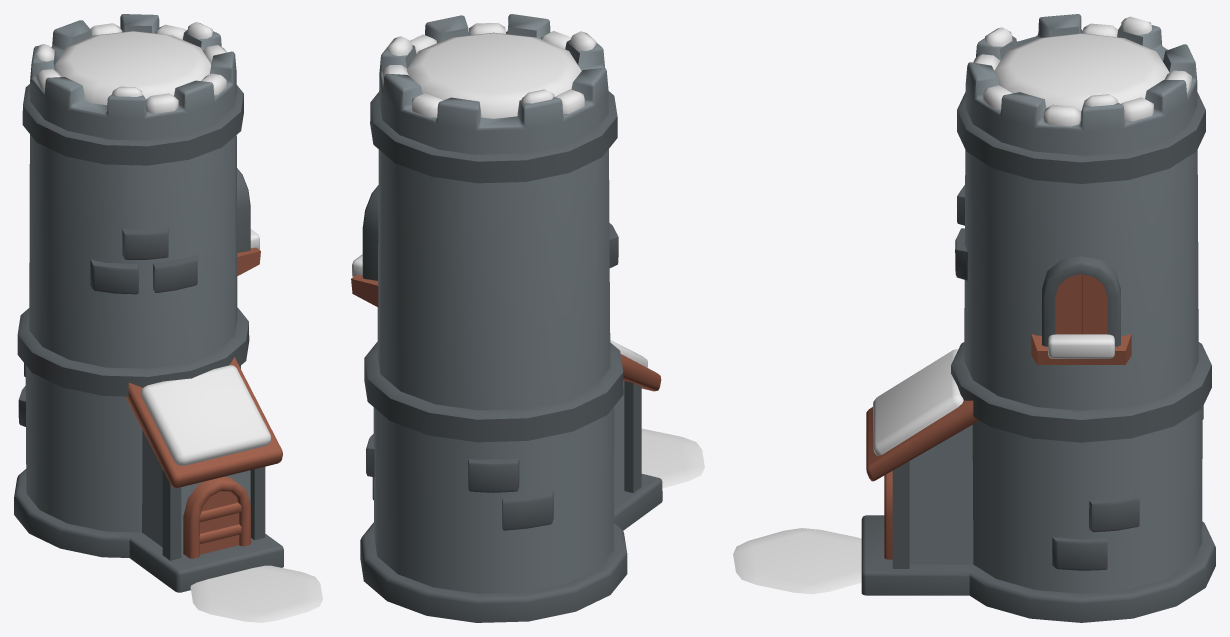
Rendered from watchtower_snow.gltf.glb.
3 views of the same model, side by side, from view 1: azimuth 30°, elevation 25°; view 2: azimuth 150°, elevation 25°; view 3: azimuth 270°, elevation 25° (orthographic). The views are drawn at different scales.
Visible parts, largest first — view 1: watchtower_snow; view 2: watchtower_snow; view 3: watchtower_snow.
Part boxes in pixels (bbox=[...]): watchtower_snow: bbox=[14, 14, 322, 622]; watchtower_snow: bbox=[351, 14, 704, 622]; watchtower_snow: bbox=[733, 14, 1215, 622].
Bounding box in the file's own units: 0.9962 × 2 × 1.71.
